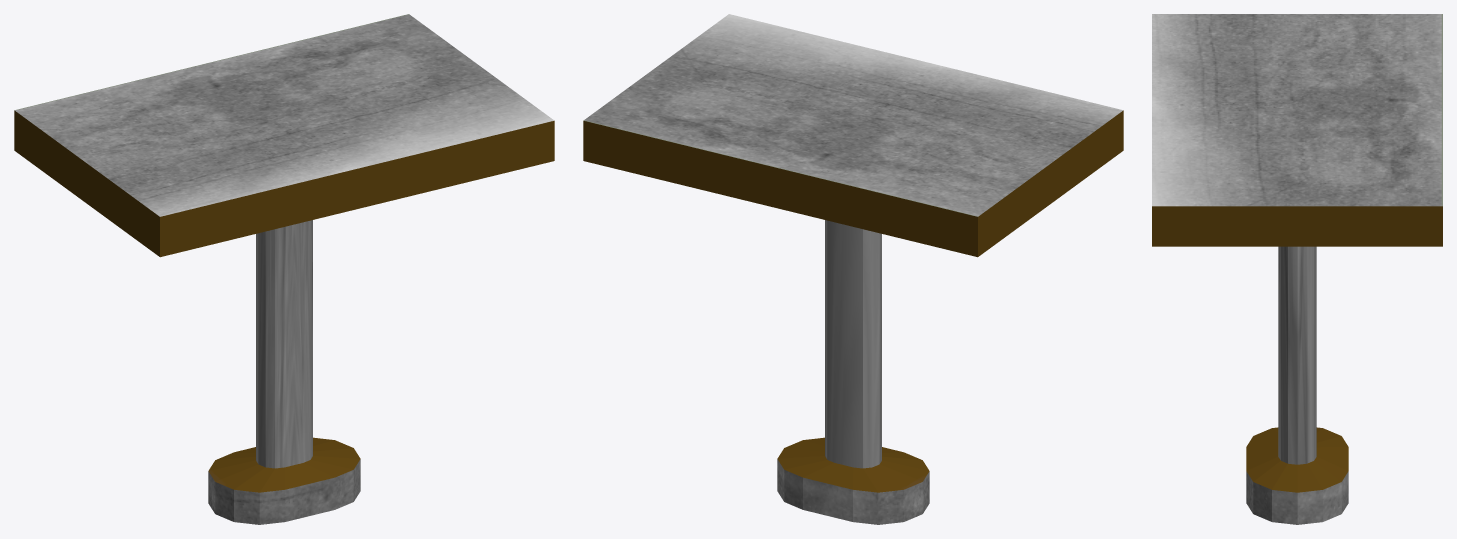
Rendered from table.fbx.
3 views of the same model, side by side, from view 1: azimuth 30°, elevation 25°; view 2: azimuth 150°, elevation 25°; view 3: azimuth 270°, elevation 25° (orthographic).
Parts seen in each view (by area): view 1: pCube11; view 2: pCube11; view 3: pCube11.
Boxes of the visible parts, x1=… form: pCube11: x1=14, y1=14, x2=554, y2=524; pCube11: x1=583, y1=14, x2=1123, y2=524; pCube11: x1=1152, y1=14, x2=1442, y2=524.
Size of the model in its own units: 1.56 by 1.45 by 1.
